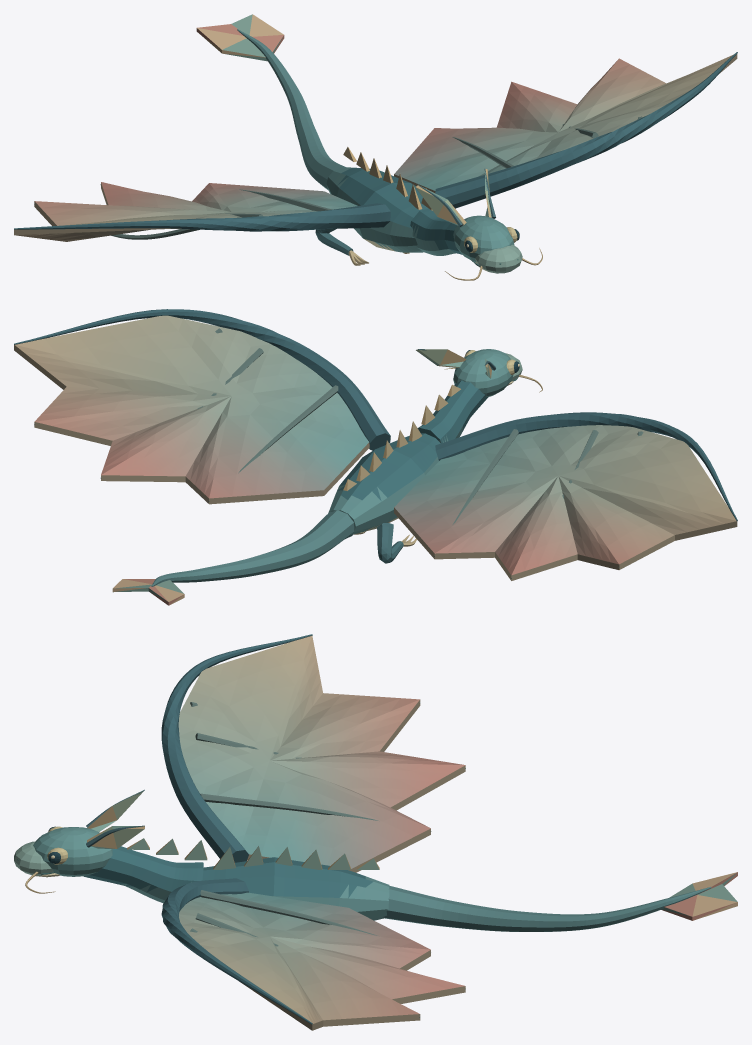
Rendered from aurel_sky_drake_v1.glb.
3 renders of one model, top to bottom at view 1: azimuth 30°, elevation 25°; view 2: azimuth 150°, elevation 25°; view 3: azimuth 270°, elevation 25°, orthographic. The views are drawn at different scales.
Parts seen in each view (by area): view 1: SW17_Right_Wing_Membrane, SW17_Left_Wing_Membrane, SW17_Right_Wing_Frame, SW17_Left_Wing_Frame, SW17_Body, SW17_Tail, SW17_Head, SW17_Tail_Rudder, SW17_Neck, SW17_Head_Fins, SW17_Dorsal_Crest, SW17_Folded_Legs (+1 smaller); view 2: SW17_Right_Wing_Membrane, SW17_Left_Wing_Membrane, SW17_Right_Wing_Frame, SW17_Body, SW17_Left_Wing_Frame, SW17_Tail, SW17_Neck, SW17_Head, SW17_Dorsal_Crest, SW17_Tail_Rudder, SW17_Folded_Legs, SW17_Head_Fins; view 3: SW17_Left_Wing_Membrane, SW17_Right_Wing_Membrane, SW17_Left_Wing_Frame, SW17_Tail, SW17_Body, SW17_Right_Wing_Frame, SW17_Neck, SW17_Head, SW17_Dorsal_Crest, SW17_Tail_Rudder, SW17_Head_Fins.
Part boxes in pixels (left/top/right/bottom): SW17_Right_Wing_Membrane: left=394, top=54, right=737, bottom=193; SW17_Left_Wing_Membrane: left=14, top=182, right=357, bottom=241; SW17_Right_Wing_Frame: left=435, top=52, right=737, bottom=208; SW17_Left_Wing_Frame: left=14, top=184, right=390, bottom=239; SW17_Body: left=326, top=167, right=428, bottom=252; SW17_Tail: left=237, top=29, right=345, bottom=190; SW17_Head: left=453, top=215, right=522, bottom=273; SW17_Tail_Rudder: left=196, top=14, right=284, bottom=61; SW17_Neck: left=410, top=208, right=462, bottom=255; SW17_Head_Fins: left=415, top=168, right=495, bottom=226; SW17_Dorsal_Crest: left=343, top=147, right=432, bottom=210; SW17_Folded_Legs: left=315, top=228, right=409, bottom=265; SW17_Right_Wing_Membrane: left=14, top=315, right=369, bottom=504; SW17_Left_Wing_Membrane: left=394, top=425, right=737, bottom=580; SW17_Right_Wing_Frame: left=14, top=309, right=390, bottom=501; SW17_Body: left=328, top=433, right=440, bottom=535; SW17_Left_Wing_Frame: left=434, top=412, right=737, bottom=578; SW17_Tail: left=151, top=509, right=354, bottom=586; SW17_Neck: left=417, top=380, right=488, bottom=443; SW17_Head: left=453, top=349, right=522, bottom=396; SW17_Dorsal_Crest: left=343, top=384, right=460, bottom=490; SW17_Tail_Rudder: left=112, top=579, right=184, bottom=605; SW17_Folded_Legs: left=345, top=523, right=416, bottom=563; SW17_Head_Fins: left=416, top=349, right=495, bottom=378; SW17_Left_Wing_Membrane: left=178, top=636, right=465, bottom=872; SW17_Right_Wing_Membrane: left=179, top=892, right=465, bottom=1030; SW17_Left_Wing_Frame: left=161, top=634, right=465, bottom=862; SW17_Tail: left=382, top=885, right=711, bottom=931; SW17_Body: left=202, top=857, right=389, bottom=920; SW17_Right_Wing_Frame: left=161, top=878, right=465, bottom=1024; SW17_Neck: left=84, top=846, right=203, bottom=903; SW17_Head: left=14, top=827, right=112, bottom=877; SW17_Dorsal_Crest: left=127, top=838, right=379, bottom=869; SW17_Tail_Rudder: left=661, top=872, right=737, bottom=920; SW17_Head_Fins: left=86, top=789, right=144, bottom=848.
Bounding box in the file's own units: 9.31 × 1.64 × 7.31.
